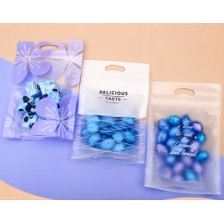snack: (138, 76, 224, 199), (63, 55, 154, 170), (0, 35, 88, 145)
